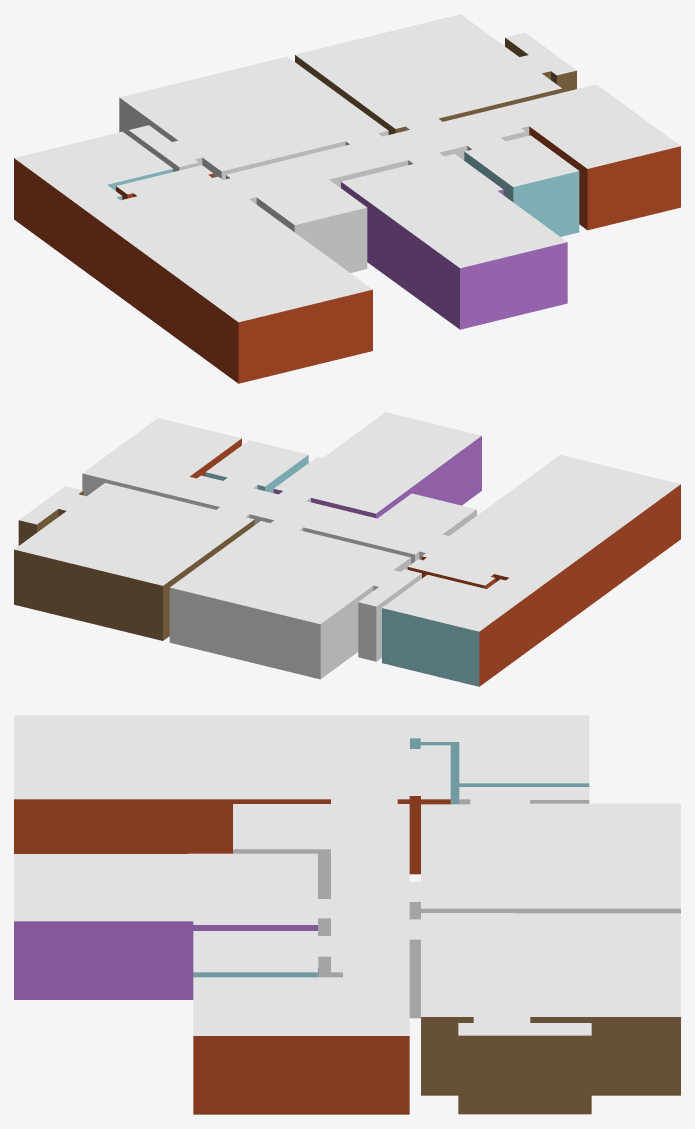
File: CasaBuena.FBX
The picture shows the model from 3 angles, top to bottom: view 1: azimuth 30°, elevation 25°; view 2: azimuth 150°, elevation 25°; view 3: azimuth 270°, elevation 25°; orthographic projection. The views are drawn at different scales.
Parts seen in each view (by area): view 1: Casa Buena; view 2: Casa Buena; view 3: Casa Buena.
Part boxes in pixels (bbox=[...]): Casa Buena: bbox=[14, 14, 680, 383]; Casa Buena: bbox=[14, 412, 680, 686]; Casa Buena: bbox=[14, 715, 680, 1114].
Bounding box in the file's own units: 78.65 × 69.2 × 9.
